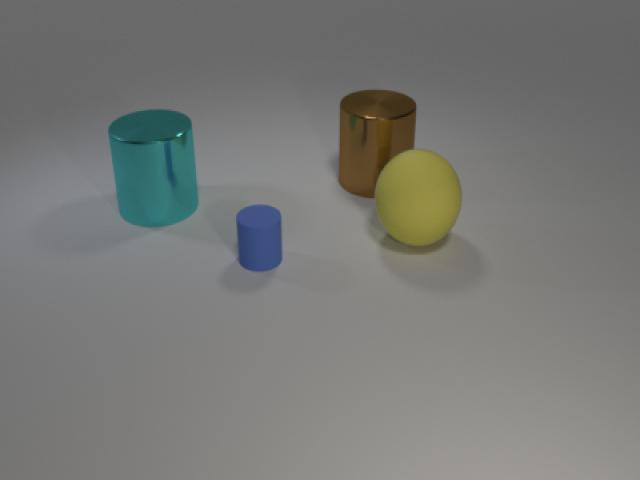cylinder: (103, 99, 206, 235), (373, 148, 463, 253), (336, 88, 417, 200), (233, 199, 288, 277)
